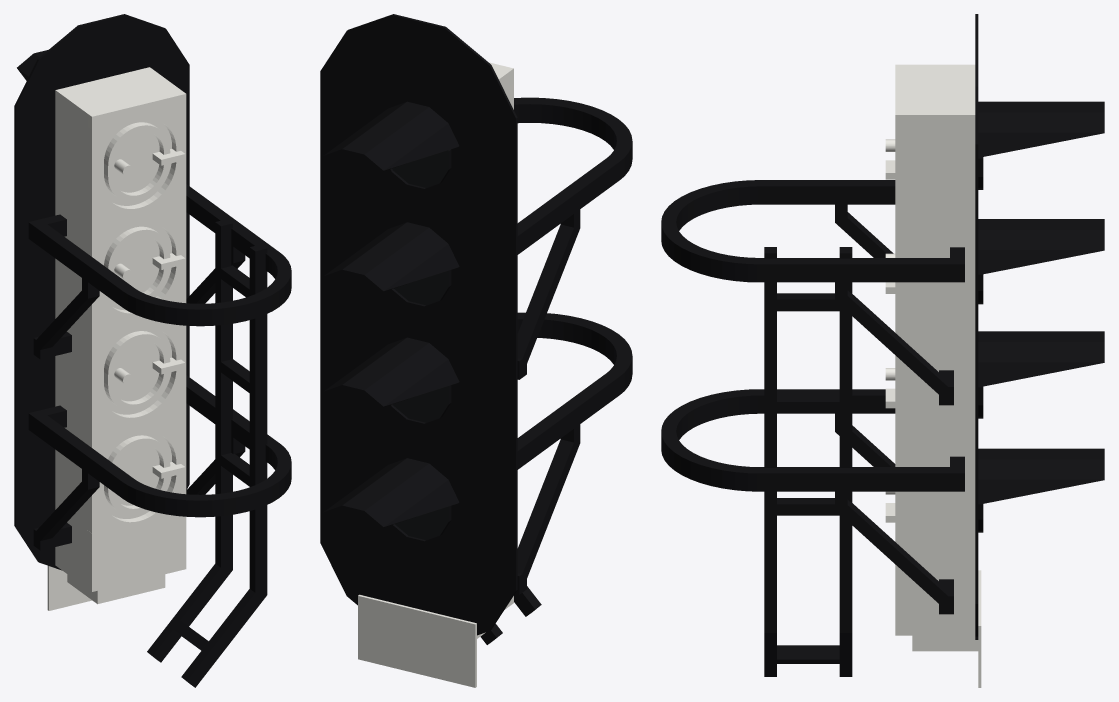
Rendered from 4chamber_left.obj.
3 views of the same model, side by side, from view 1: azimuth 30°, elevation 25°; view 2: azimuth 150°, elevation 25°; view 3: azimuth 270°, elevation 25° (orthographic). The views are drawn at different scales.
Visible parts, largest first — view 1: signal_head, signal_plate, railing, ladder_top, ladder_middle, signal_id; view 2: signal_plate, railing, signal_id, green, orange_bottom, red, white, ladder_middle, signal_head; view 3: signal_head, railing, signal_plate, ladder_top, ladder_middle.
Part boxes in pixels (x1=…): signal_head: x1=55, y1=67, x2=186, y2=604; signal_plate: x1=14, y1=14, x2=189, y2=570; railing: x1=28, y1=184, x2=291, y2=550; ladder_top: x1=215, y1=219, x2=267, y2=594; ladder_middle: x1=147, y1=563, x2=266, y2=687; signal_id: x1=47, y1=566, x2=91, y2=610; signal_plate: x1=320, y1=14, x2=517, y2=635; railing: x1=514, y1=97, x2=632, y2=594; signal_id: x1=358, y1=594, x2=476, y2=687; green: x1=392, y1=150, x2=448, y2=187; orange_bottom: x1=392, y1=386, x2=448, y2=422; red: x1=394, y1=270, x2=448, y2=305; white: x1=395, y1=506, x2=448, y2=539; ladder_middle: x1=480, y1=586, x2=541, y2=644; signal_head: x1=477, y1=62, x2=513, y2=638; signal_head: x1=885, y1=64, x2=978, y2=651; railing: x1=661, y1=180, x2=964, y2=614; signal_plate: x1=975, y1=14, x2=1104, y2=639; ladder_top: x1=764, y1=247, x2=852, y2=632; ladder_middle: x1=764, y1=633, x2=852, y2=676.
Size of the model in its own units: 0.61 by 2 by 1.23.
